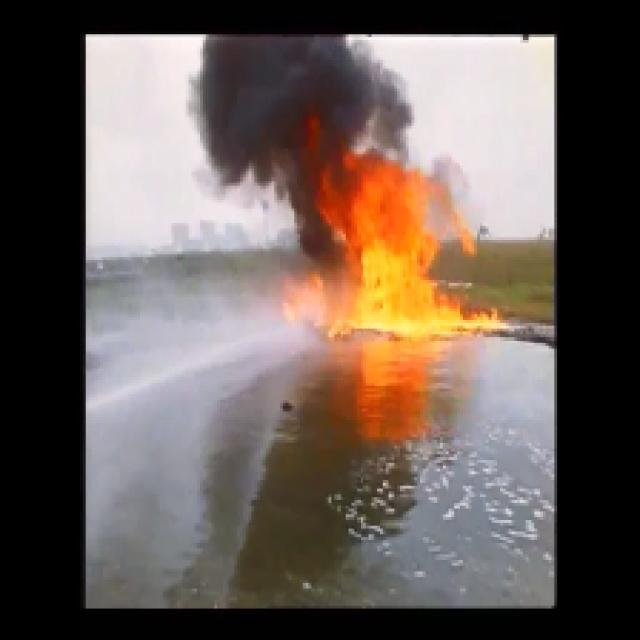Fire: (338, 172, 452, 316)
Smoke: (210, 40, 354, 164)
